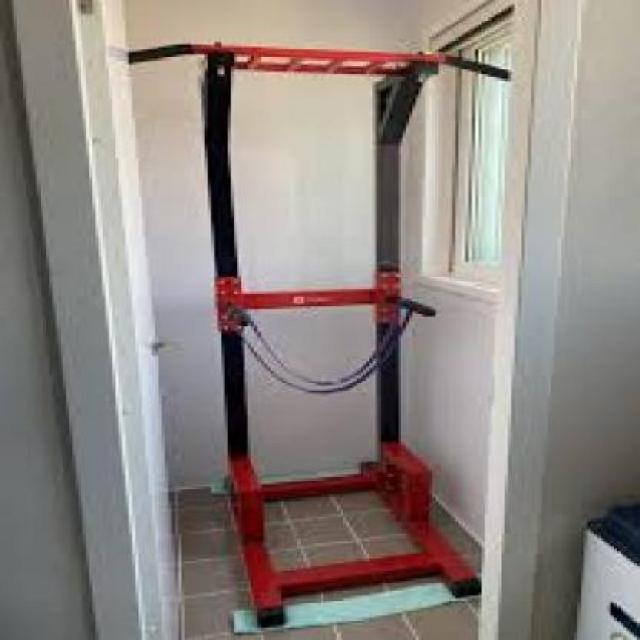chinning dipping: (125, 37, 512, 631)
